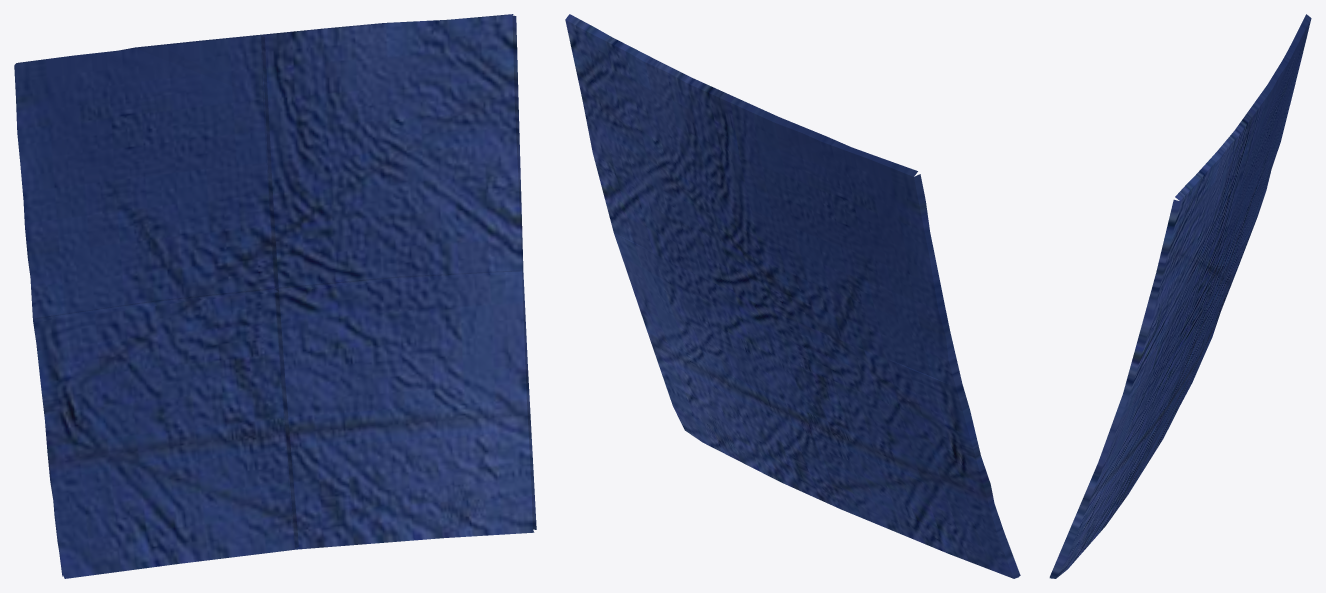
The picture shows the model from 3 angles, left to right: view 1: azimuth 30°, elevation 25°; view 2: azimuth 150°, elevation 25°; view 3: azimuth 270°, elevation 25°; orthographic projection. The views are drawn at different scales.
Bounding box in the file's own units: 1257457 × 1208053 × 710265.
1 material, 1 textured.
